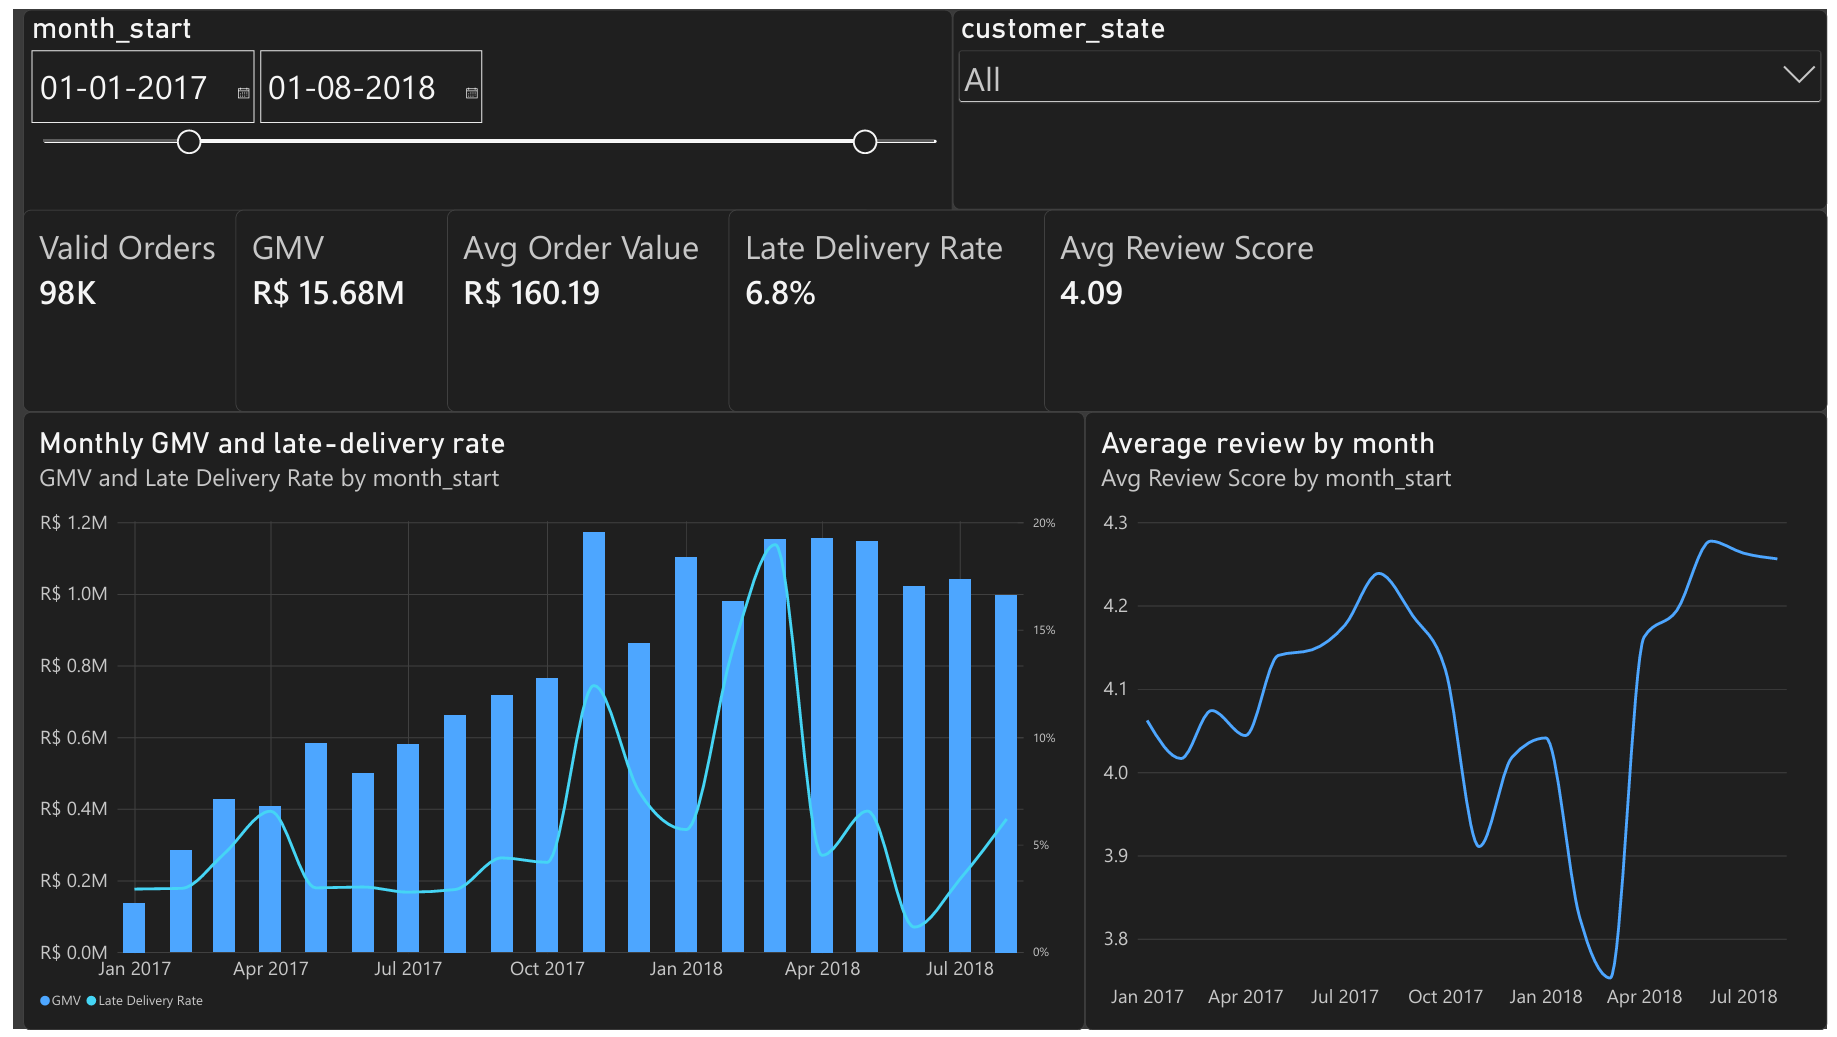

The page's visual inventory and layout, read from the dashboard file:
{"tool":"powerbi","page":{"name":"Overview","canvas":[1920,1080],"ordinal":0},"visuals":[{"type":"slicer","fields":{"Values":["dim_date.month_start"]},"box":[10.3,0,983.9,228.5],"z":0},{"type":"slicer","fields":{"Values":["fct_orders.customer_state"]},"box":[994.2,0,926.2,212],"z":1000},{"type":"cardVisual","fields":{"Data":["_Measures.Valid Orders"]},"box":[10.3,212,899.5,214.1],"z":2000},{"type":"cardVisual","fields":{"Data":["_Measures.GMV"]},"box":[234.6,212,899.5,214.1],"z":3000},{"type":"cardVisual","fields":{"Data":["_Measures.Avg Order Value"]},"box":[459,212,899.5,214.1],"z":4000},{"type":"cardVisual","fields":{"Data":["_Measures.Late Delivery Rate"]},"box":[757.5,212,827.4,214.1],"z":5000},{"type":"cardVisual","fields":{"Data":["_Measures.Avg Review Score"]},"box":[1090.9,212,829.5,214.1],"z":6000},{"type":"lineClusteredColumnComboChart","title":"Monthly GMV and late-delivery rate","fields":{"Category":["dim_date.month_start"],"Y":["_Measures.GMV"],"Y2":["_Measures.Late Delivery Rate"]},"box":[10.3,426.1,1123.8,654.5],"z":7000},{"type":"lineChart","title":"Average review by month","fields":{"Category":["dim_date.month_start"],"Y":["_Measures.Avg Review Score"]},"box":[1134.1,426.1,786.3,654.5],"z":8000}]}

Visuals, with their boxes in screenshot pixels (x1, y1, x2, y2), scaled from the page's 1920x1080 canvas onto the 1837x1037 screenshot:
slicer - dim_date.month_start: 10,0,951,219
slicer - fct_orders.customer_state: 951,0,1836,204
cardVisual - _Measures.Valid Orders: 10,204,870,409
cardVisual - _Measures.GMV: 224,204,1085,409
cardVisual - _Measures.Avg Order Value: 439,204,1300,409
cardVisual - _Measures.Late Delivery Rate: 725,204,1516,409
cardVisual - _Measures.Avg Review Score: 1044,204,1836,409
"Monthly GMV and late-delivery rate" lineClusteredColumnComboChart: 10,409,1085,1036
"Average review by month" lineChart: 1085,409,1836,1036
